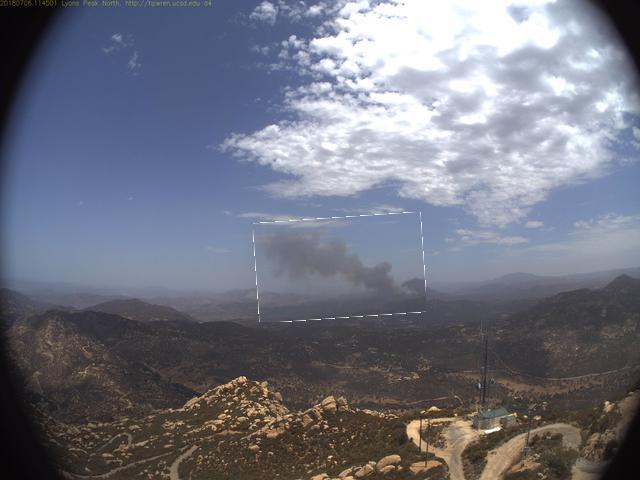smoke: (256, 216, 427, 322)
